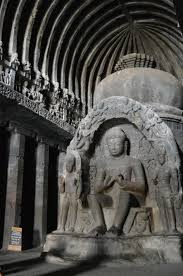Figure of Buddha, Ellora: (3, 1, 180, 273)
